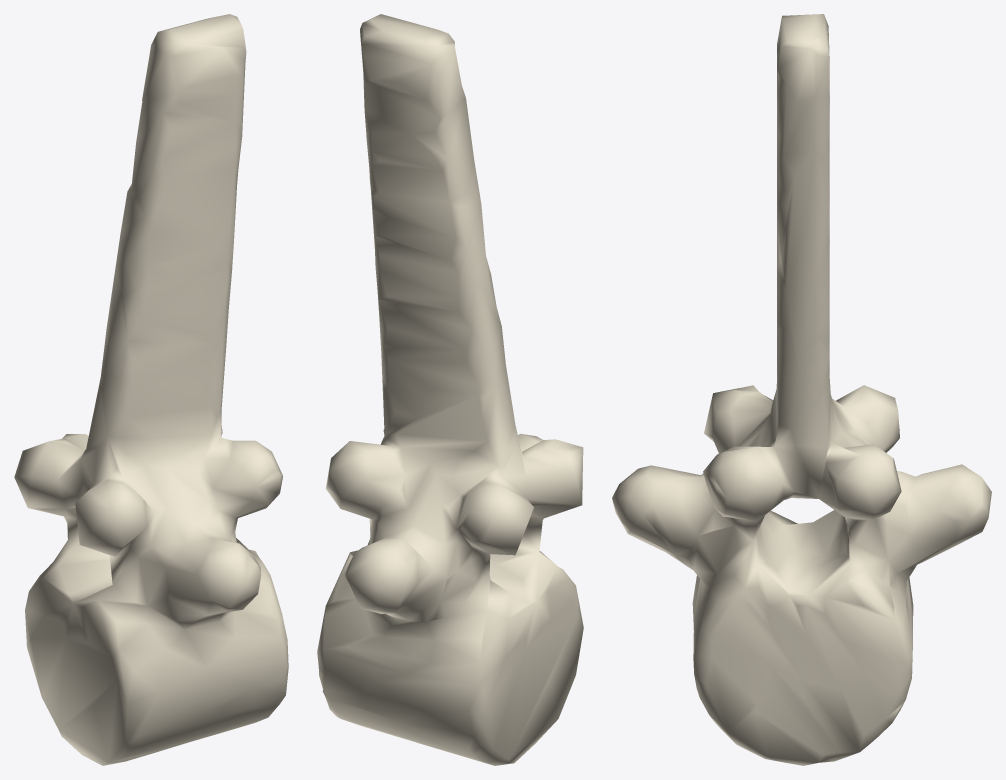
Rendered from thoracic_10.glb.
3 views of the same model, side by side, from view 1: azimuth 30°, elevation 25°; view 2: azimuth 150°, elevation 25°; view 3: azimuth 270°, elevation 25° (orthographic). The views are drawn at different scales.
Visible parts, largest first — view 1: geometry_0; view 2: geometry_0; view 3: geometry_0.
Part boxes in pixels (x1,y1,x2,y2): geometry_0: (14, 14, 288, 765); geometry_0: (317, 14, 583, 765); geometry_0: (612, 14, 991, 765).
Bounding box in the file's own units: 0.1273 × 0.4272 × 0.2008.
